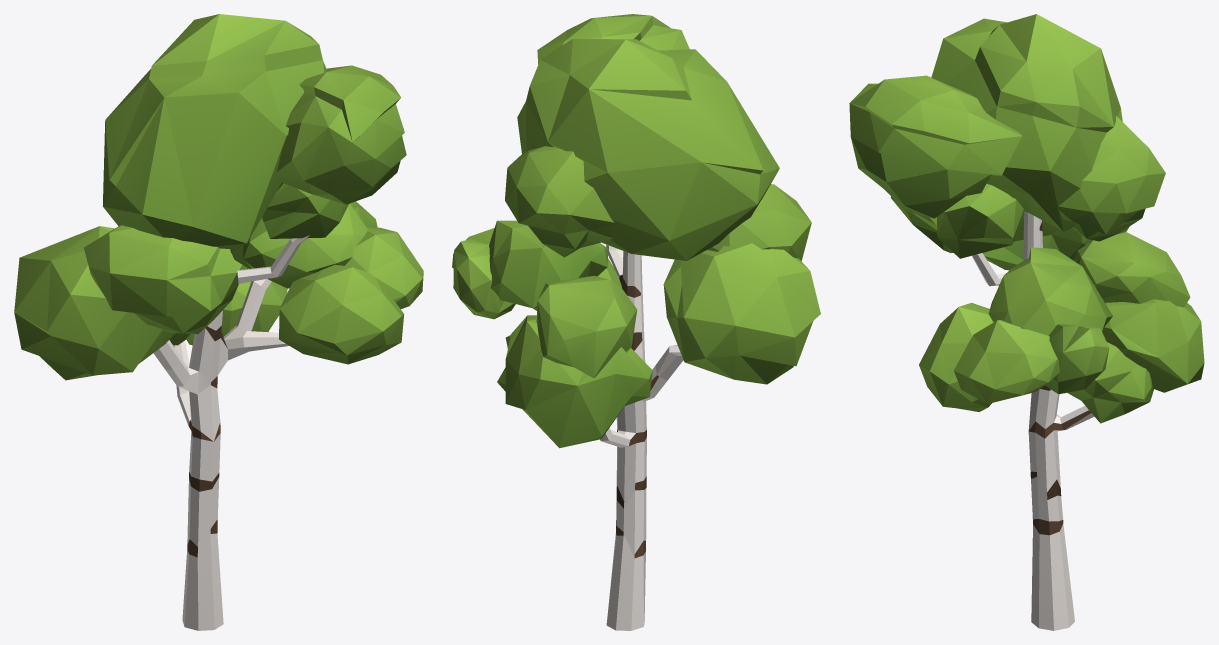
File: TreeBirchDark.fbx
3 views of the same model, side by side, from view 1: azimuth 30°, elevation 25°; view 2: azimuth 150°, elevation 25°; view 3: azimuth 270°, elevation 25° (orthographic). The views are drawn at different scales.
Parts seen in each view (by area): view 1: TreeBirchDark_LOD0; view 2: TreeBirchDark_LOD0; view 3: TreeBirchDark_LOD0.
Boxes of the visible parts, x1,y1,x2,y2 form: TreeBirchDark_LOD0: (14,14,423,630); TreeBirchDark_LOD0: (452,14,820,630); TreeBirchDark_LOD0: (849,14,1204,630).
Size of what is drawn, in the model's own units: 422 by 652 by 343.
